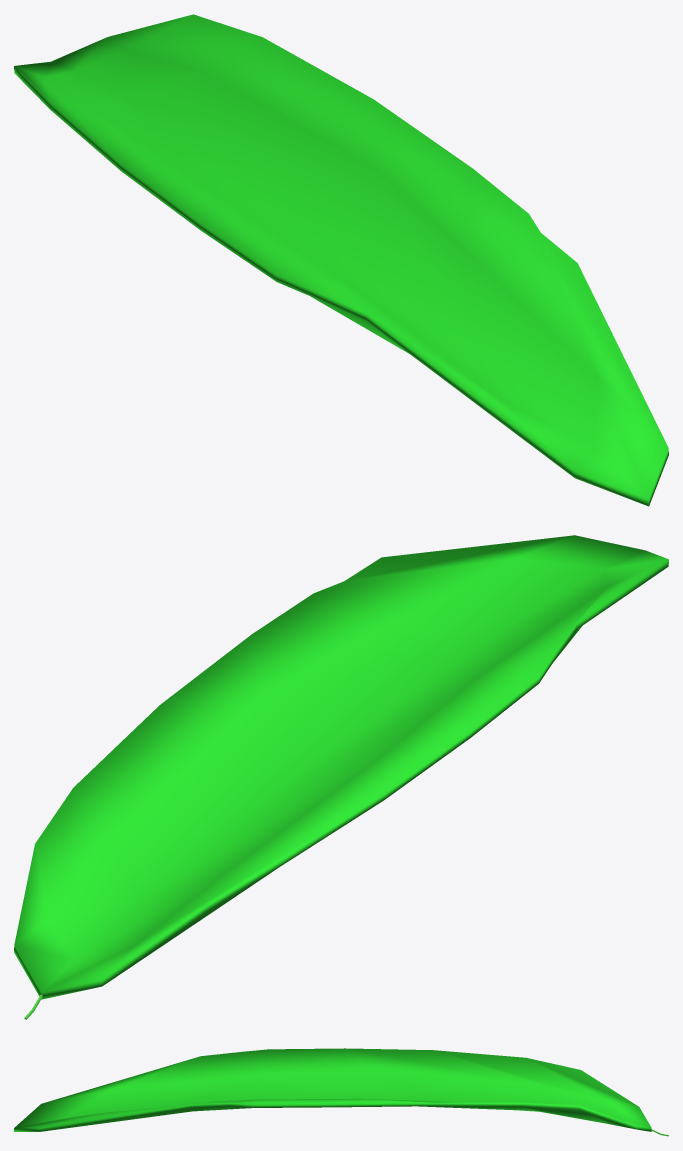
The model's file is leaf2 vol.2.fbx.
3 views of the same model, one above another, from view 1: azimuth 30°, elevation 25°; view 2: azimuth 150°, elevation 25°; view 3: azimuth 270°, elevation 25° (orthographic). The views are drawn at different scales.
Parts seen in each view (by area): view 1: Plane; view 2: Plane; view 3: Plane.
Part boxes in pixels (x1,y1,x2,y2): Plane: (14, 14, 668, 506); Plane: (14, 535, 668, 999); Plane: (14, 1048, 651, 1131).
Size of the model in its own units: 261 by 116 by 1136.
